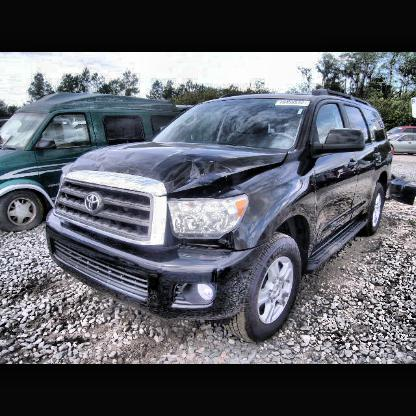Toyota Sequoia SUV 2012: (49, 93, 396, 347)
